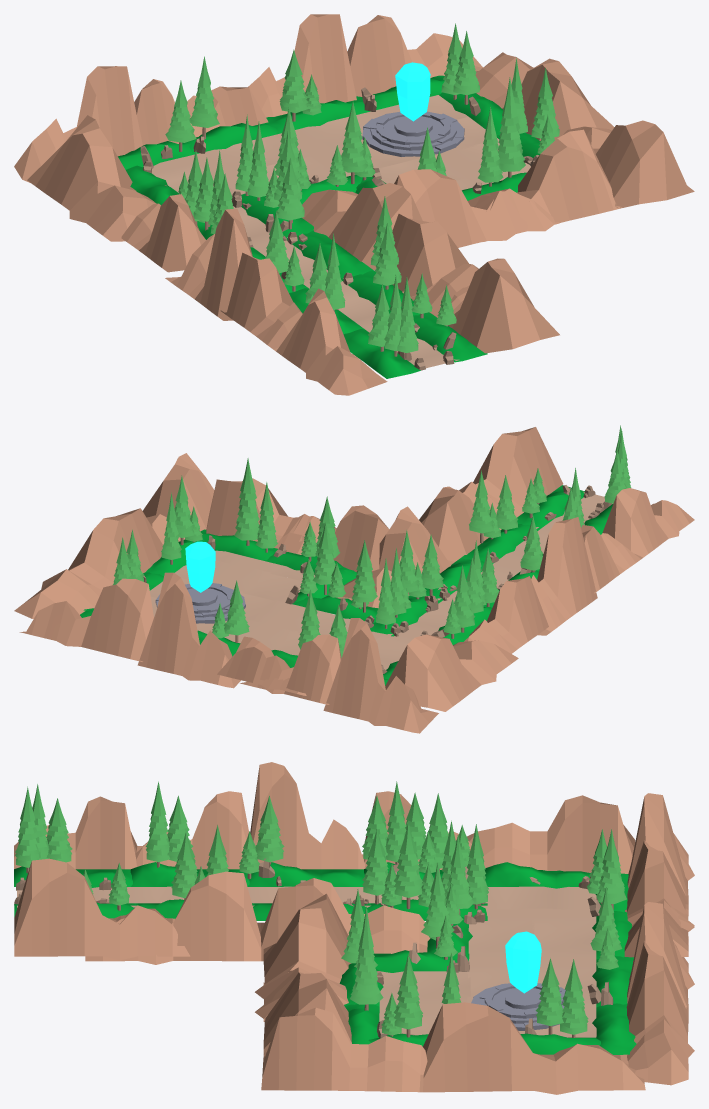
File: crystal.gltf
3 views of the same model, one above another, from view 1: azimuth 30°, elevation 25°; view 2: azimuth 150°, elevation 25°; view 3: azimuth 270°, elevation 25° (orthographic). The views are drawn at different scales.
Visible parts, largest first — view 1: walls, Object_9, grass, ground, Object_8, platform, Stones, crystal; view 2: walls, Object_9, ground, grass, Object_8, Stones, platform, crystal; view 3: walls, Object_9, grass, ground, Object_8, Stones, platform, crystal, Object_10.
Boxes of the visible parts, bbox=[...] form: walls: bbox=[14, 14, 694, 395]; Object_9: bbox=[167, 32, 559, 352]; grass: bbox=[118, 75, 539, 378]; ground: bbox=[152, 95, 530, 368]; Object_8: bbox=[165, 23, 556, 347]; platform: bbox=[362, 111, 464, 156]; Stones: bbox=[140, 87, 538, 370]; crystal: bbox=[395, 62, 430, 121]; walls: bbox=[14, 427, 694, 733]; Object_9: bbox=[113, 433, 631, 654]; ground: bbox=[150, 491, 612, 669]; grass: bbox=[80, 485, 612, 685]; Object_8: bbox=[114, 425, 630, 657]; Stones: bbox=[143, 485, 611, 673]; platform: bbox=[155, 583, 245, 623]; crystal: bbox=[185, 541, 215, 592]; walls: bbox=[14, 762, 694, 1094]; Object_9: bbox=[15, 791, 624, 1035]; grass: bbox=[14, 862, 636, 1054]; ground: bbox=[17, 886, 596, 1037]; Object_8: bbox=[17, 781, 626, 1034]; Stones: bbox=[14, 858, 613, 1038]; platform: bbox=[471, 983, 565, 1030]; crystal: bbox=[505, 931, 541, 993]; Object_10: bbox=[269, 823, 588, 1028].
Size of what is drawn, in the model's own units: 18.49 by 4.42 by 20.58.
